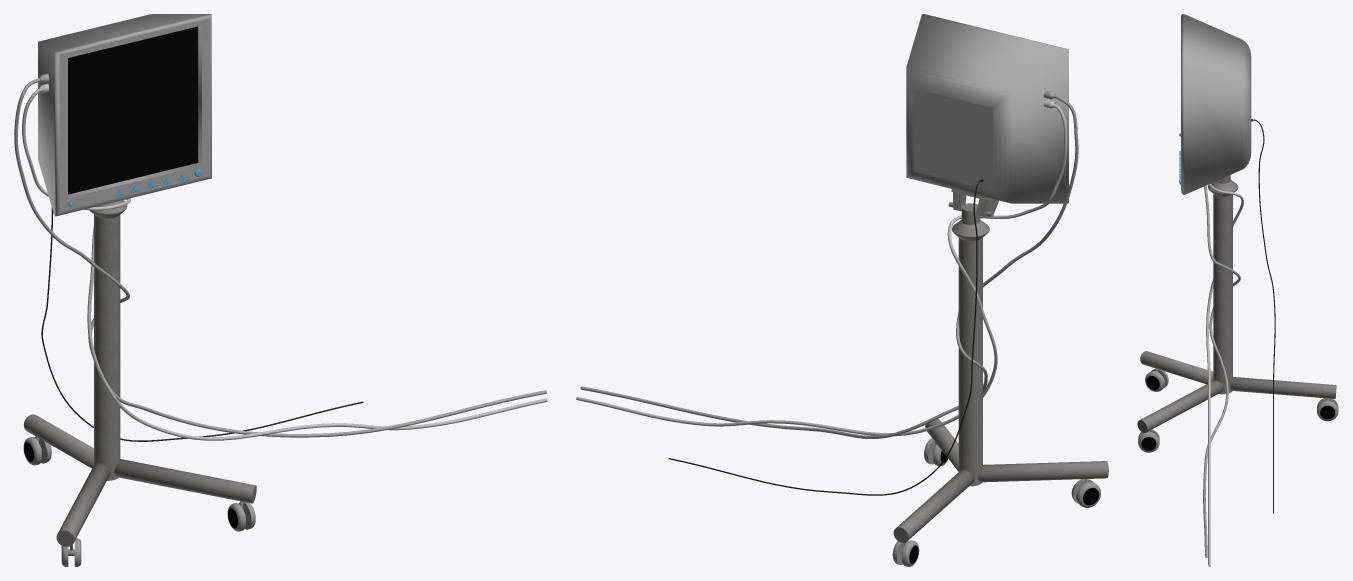
File: may_monitor.glb
3 renders of one model, left to right at view 1: azimuth 30°, elevation 25°; view 2: azimuth 150°, elevation 25°; view 3: azimuth 270°, elevation 25°, orthographic. The views are drawn at different scales.
Visible parts, largest first — view 1: SM_ECG; view 2: SM_ECG; view 3: SM_ECG.
Part boxes in pixels (box(x1,y1,x2,y2)): SM_ECG: box(14, 14, 547, 566); SM_ECG: box(576, 14, 1108, 566); SM_ECG: box(1137, 14, 1338, 566).
Bounding box in the file's own units: 1.7 × 1.52 × 0.7353.
8 materials, 8 textured.
